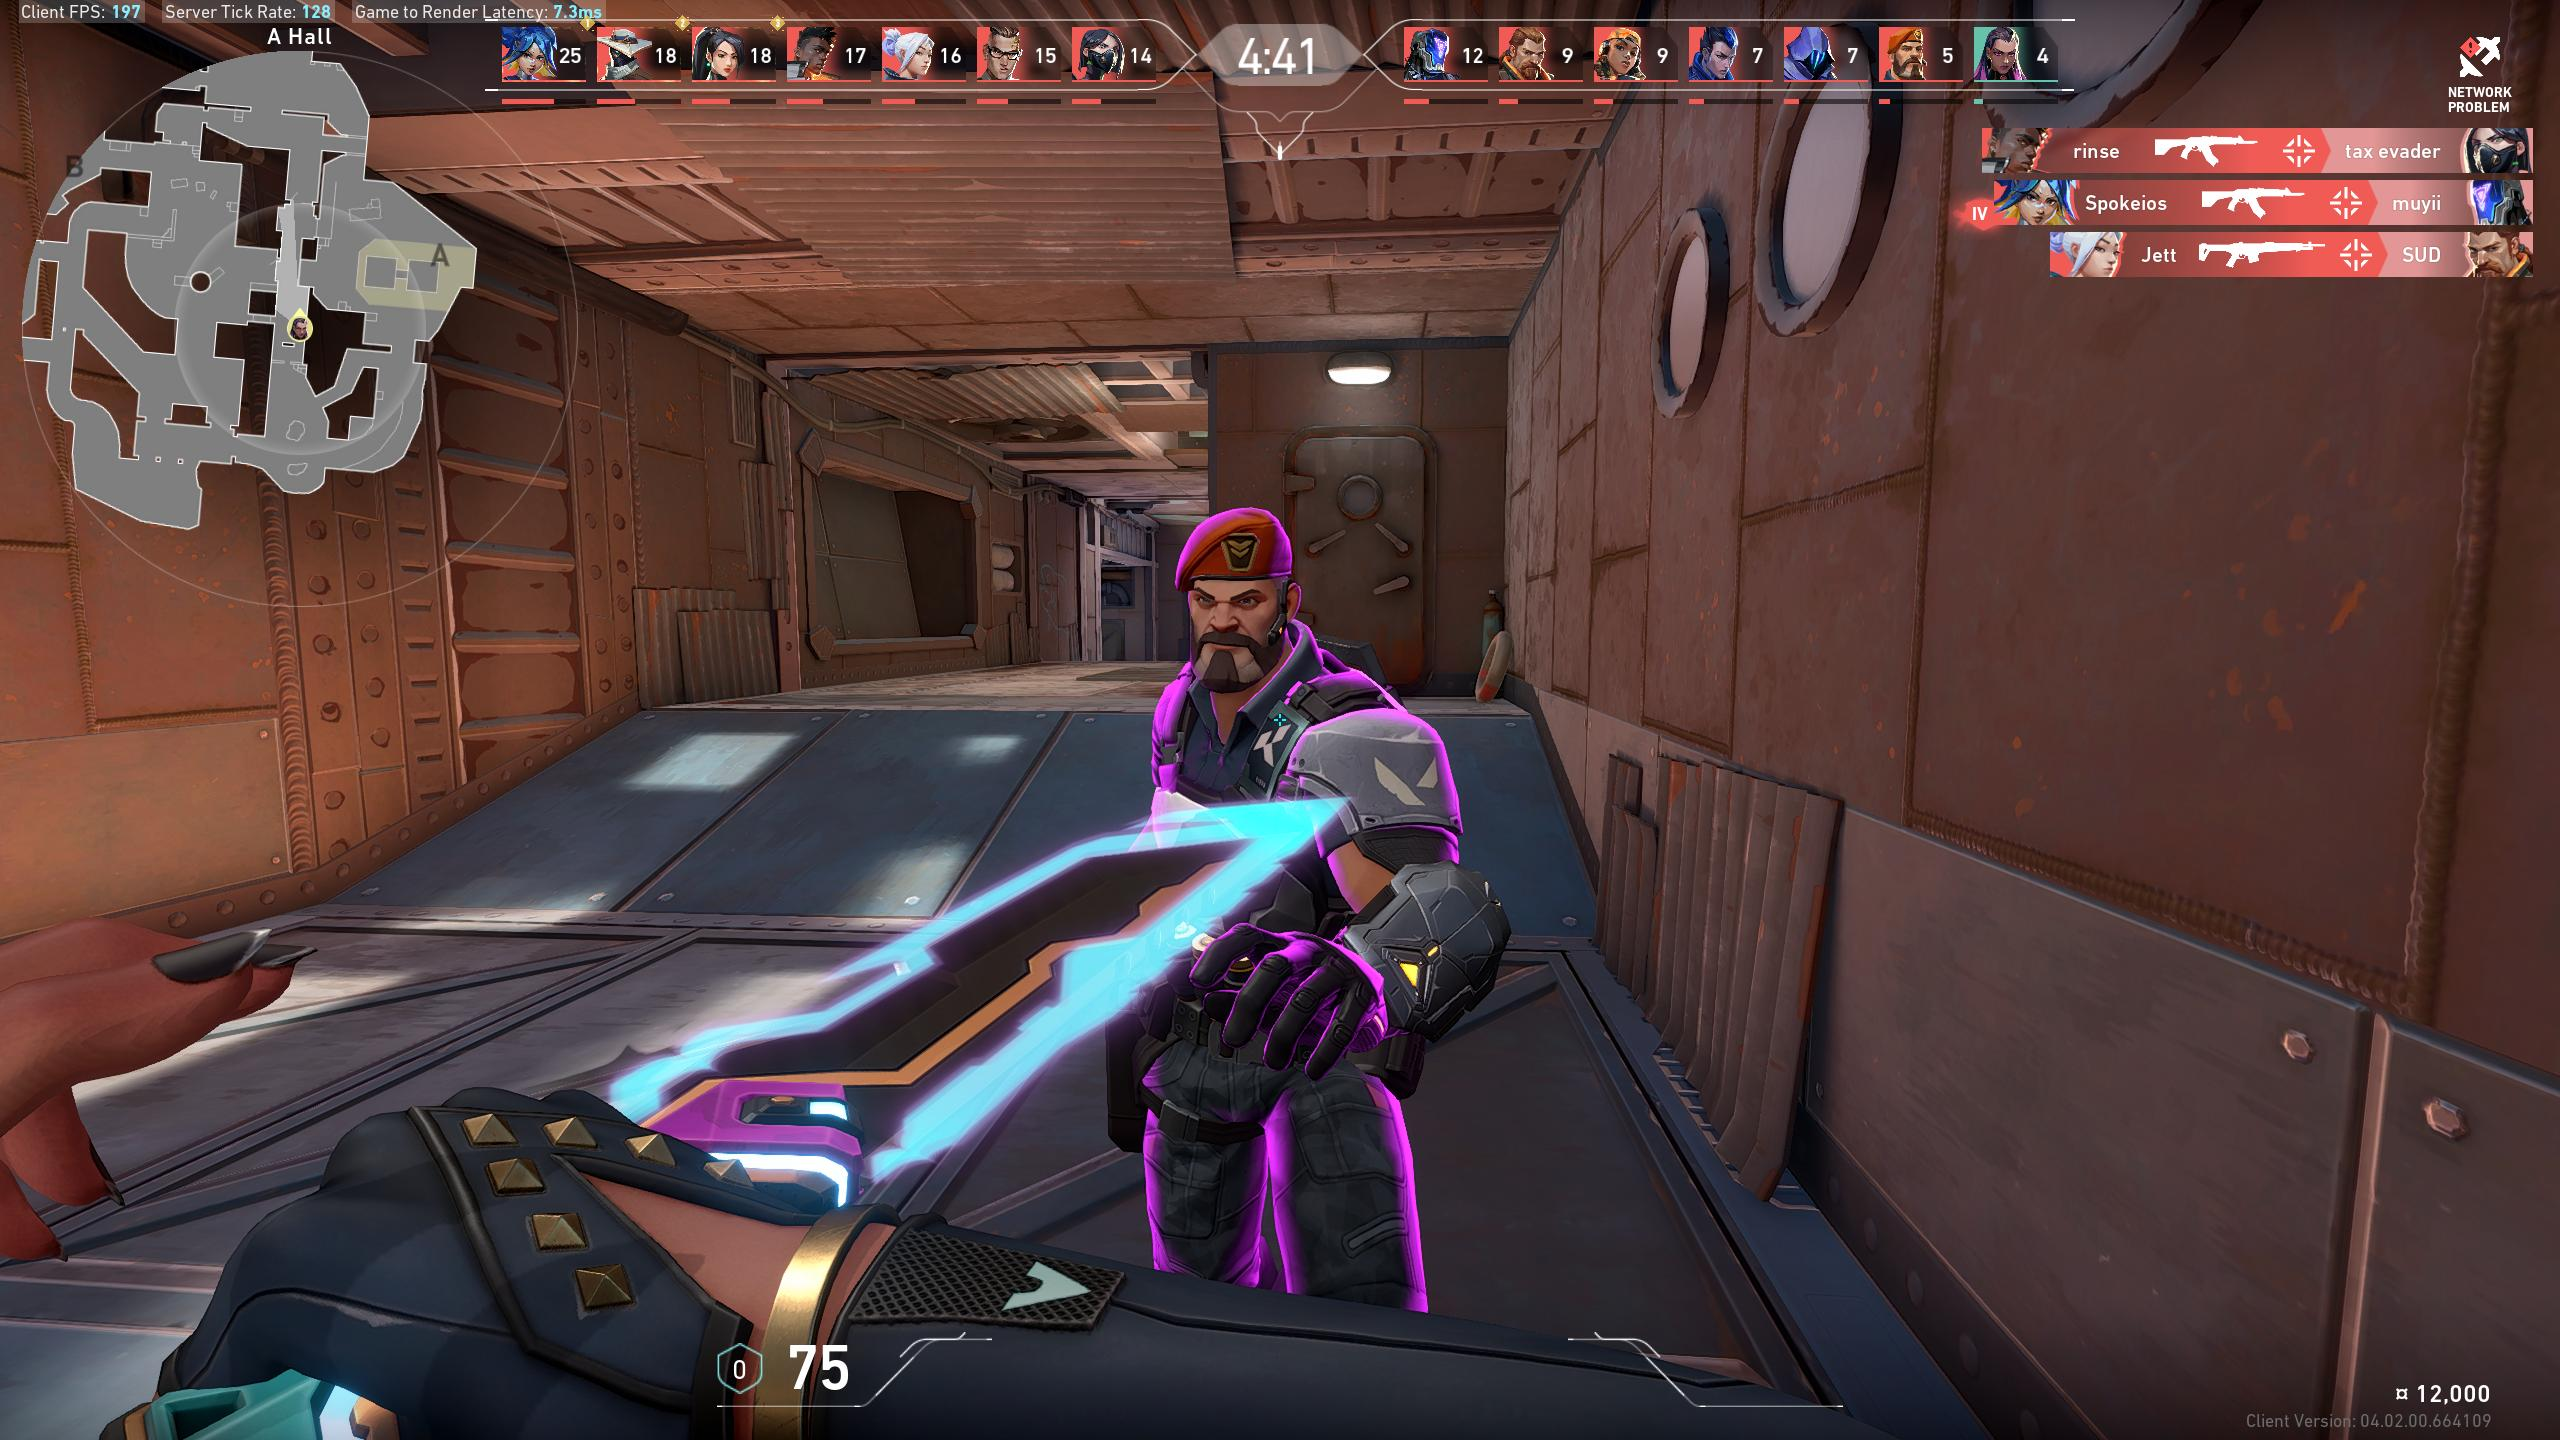enemyBody: (1178, 695, 1333, 1006)
enemyHead: (1192, 543, 1282, 679)
